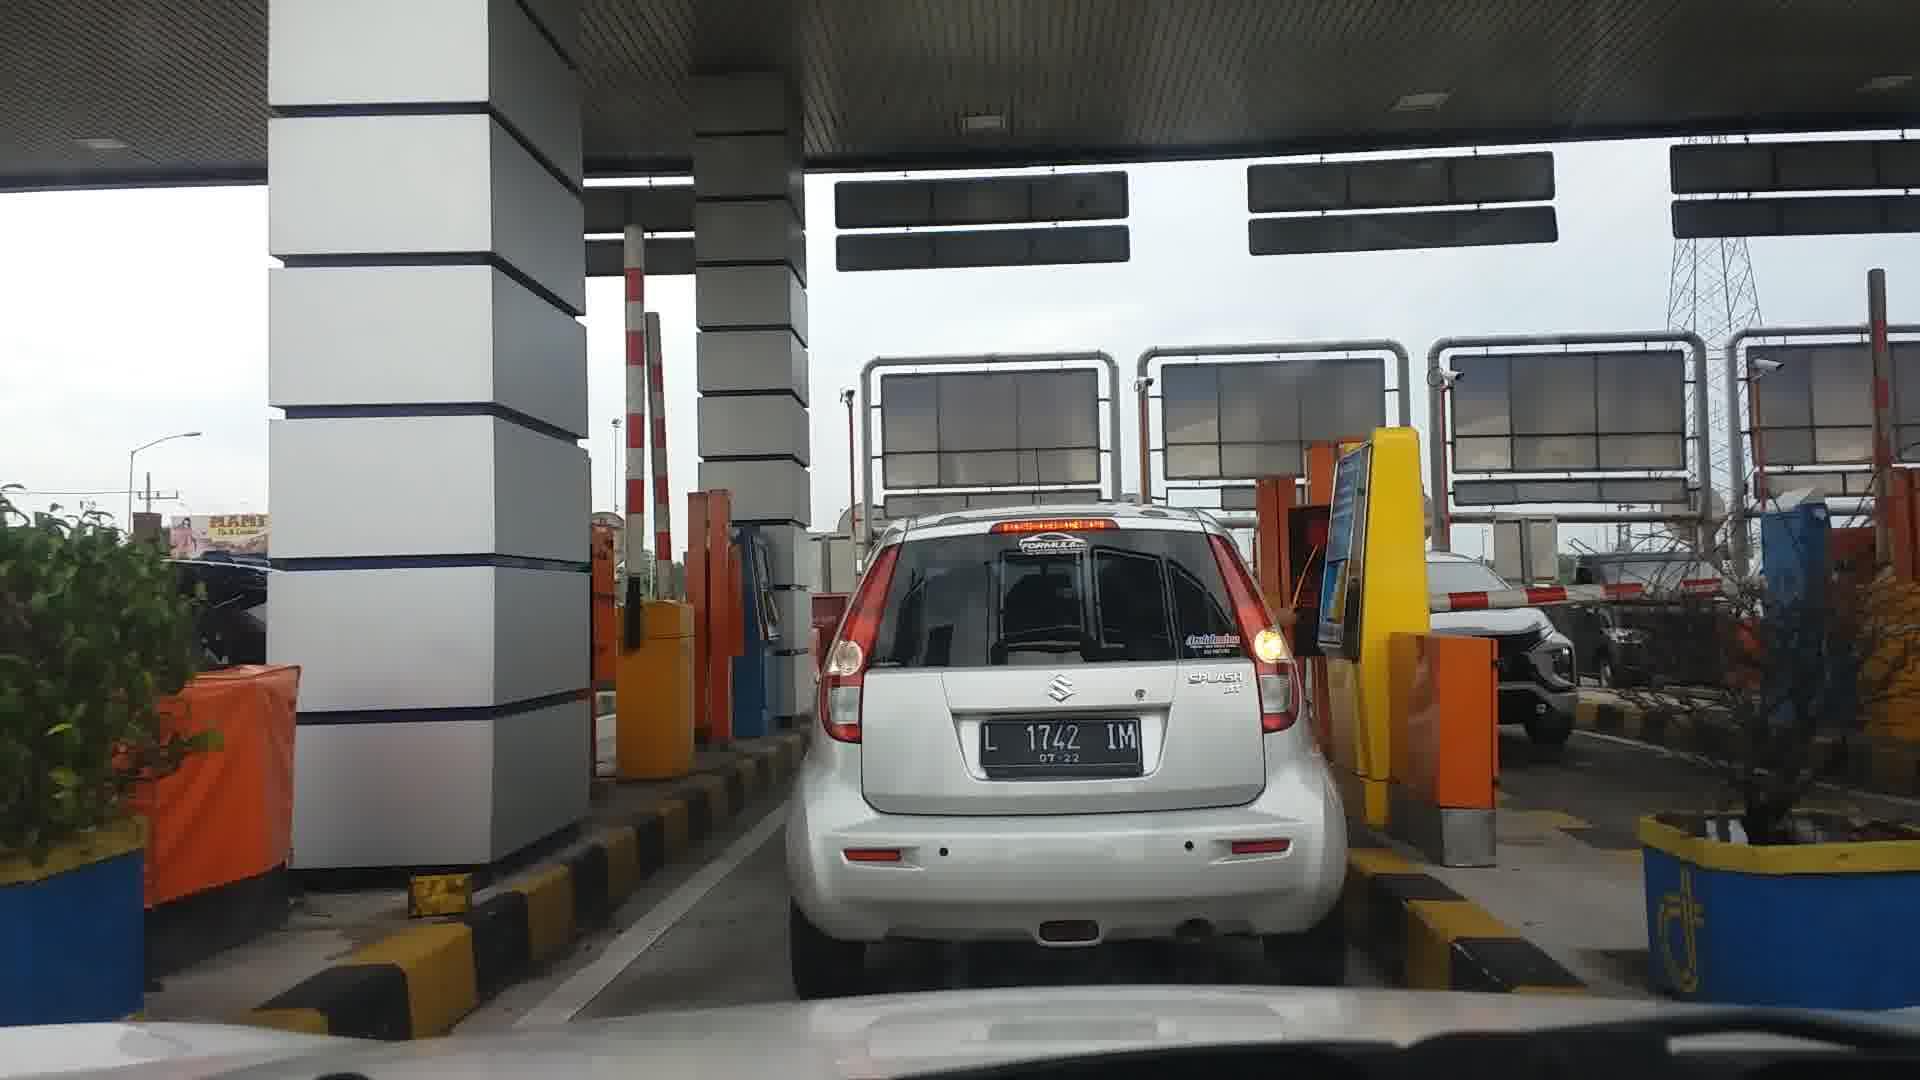plate_positive: (978, 716, 1143, 778)
